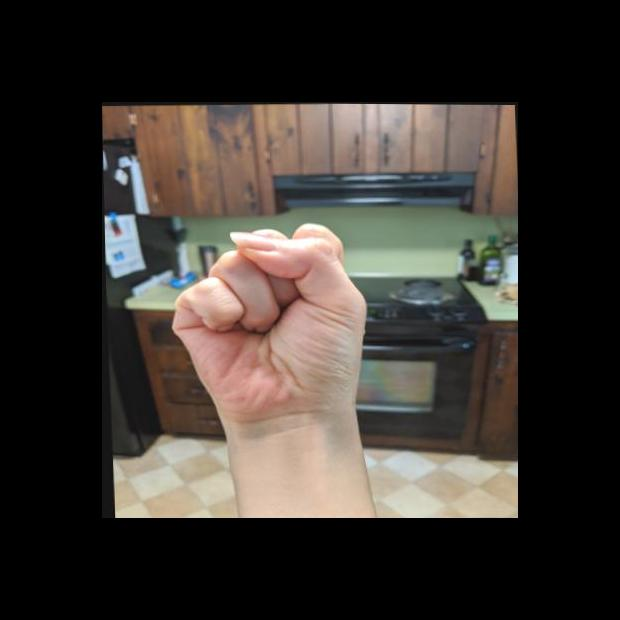R: (162, 217, 376, 429)
